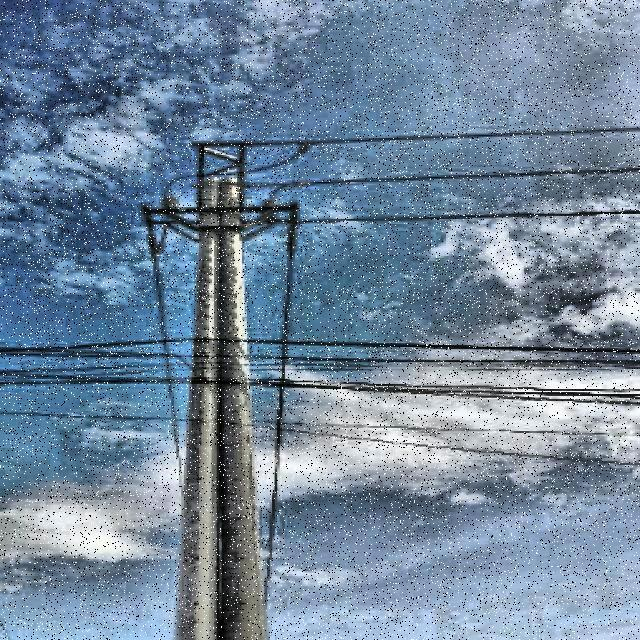crossarm: (167, 214, 274, 233), (148, 205, 297, 216)
pole: (175, 177, 271, 640)
wire: (149, 125, 640, 496), (264, 211, 640, 612), (266, 167, 640, 211)
